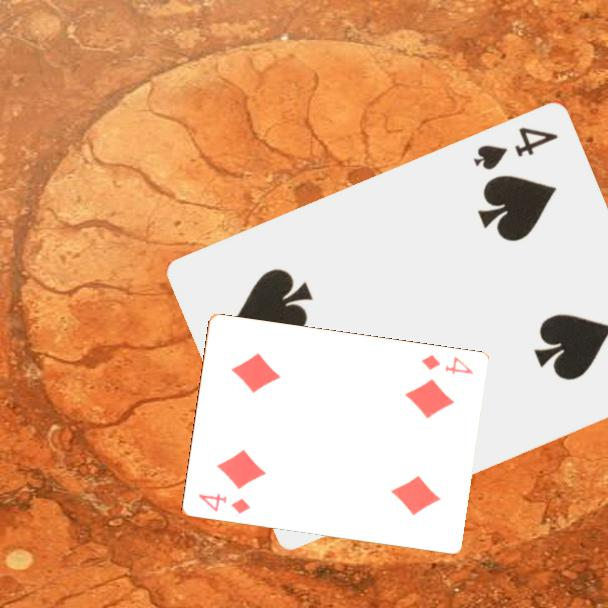d04: (195, 490, 253, 517), (418, 351, 475, 378)
s04: (470, 122, 561, 173)
